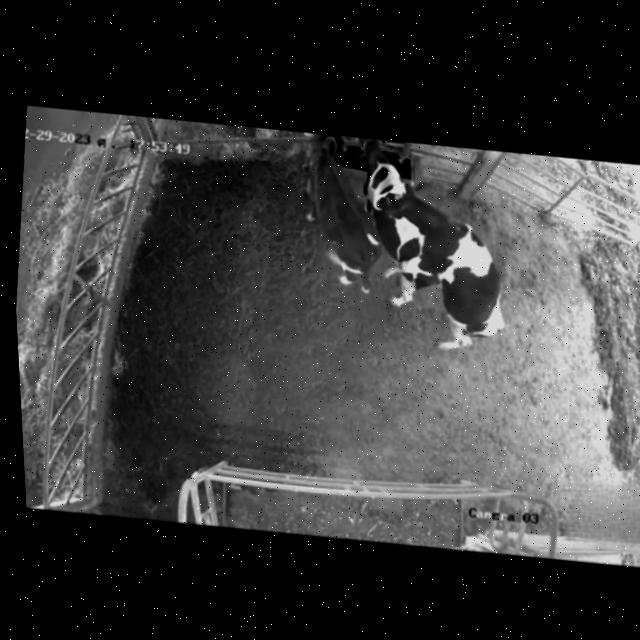drink: (353, 136, 424, 193), (291, 131, 361, 184)
ride: (364, 179, 530, 366)
